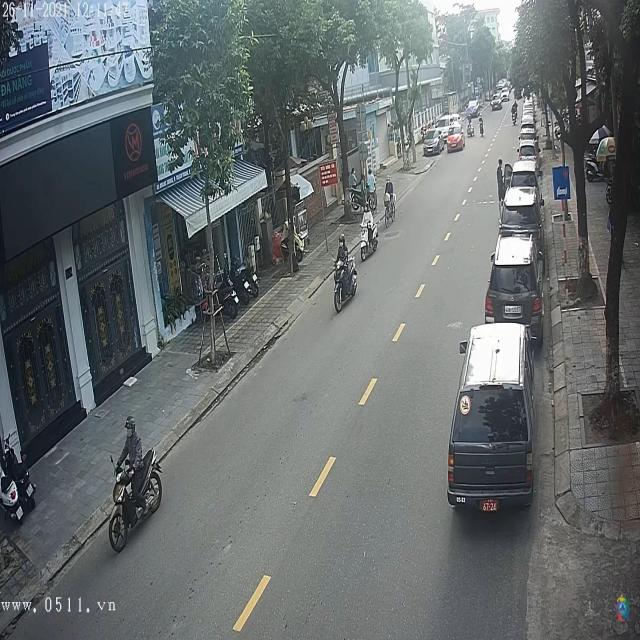car: (449, 321, 535, 508), (484, 232, 544, 330), (500, 162, 540, 230), (441, 127, 465, 152), (516, 144, 536, 162), (517, 124, 536, 142)
motorcycle: (106, 446, 163, 556), (334, 260, 359, 314), (360, 217, 381, 261)
